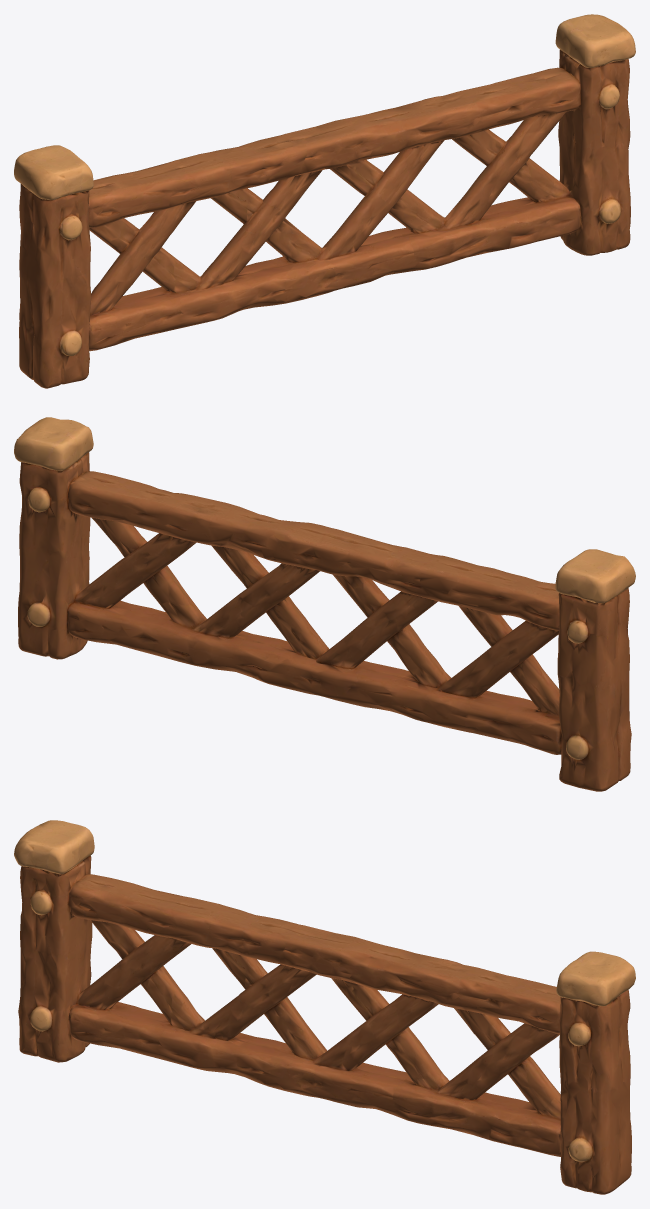
File: trellis-fence-panel.glb
The picture shows the model from 3 angles, top to bottom: view 1: azimuth 30°, elevation 25°; view 2: azimuth 150°, elevation 25°; view 3: azimuth 330°, elevation 25°; orthographic projection.
Bounding box in the file's own units: 1.9 × 0.662 × 0.2103.
1 material, 1 textured.
